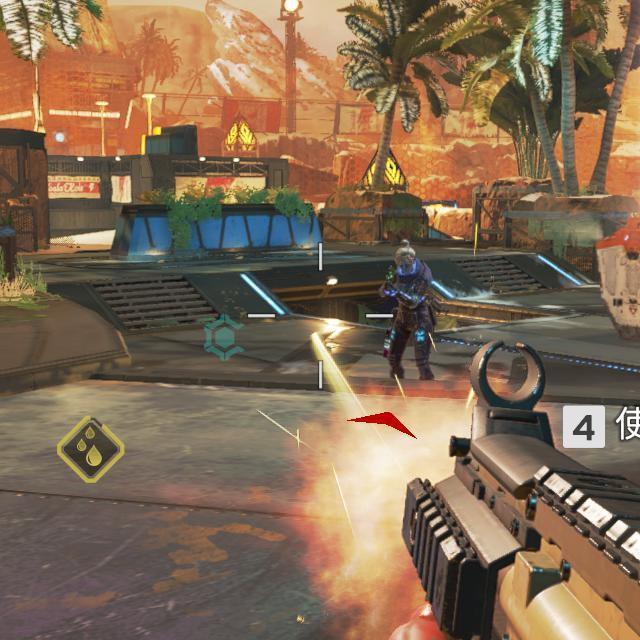avatar: (380, 243, 440, 382)
